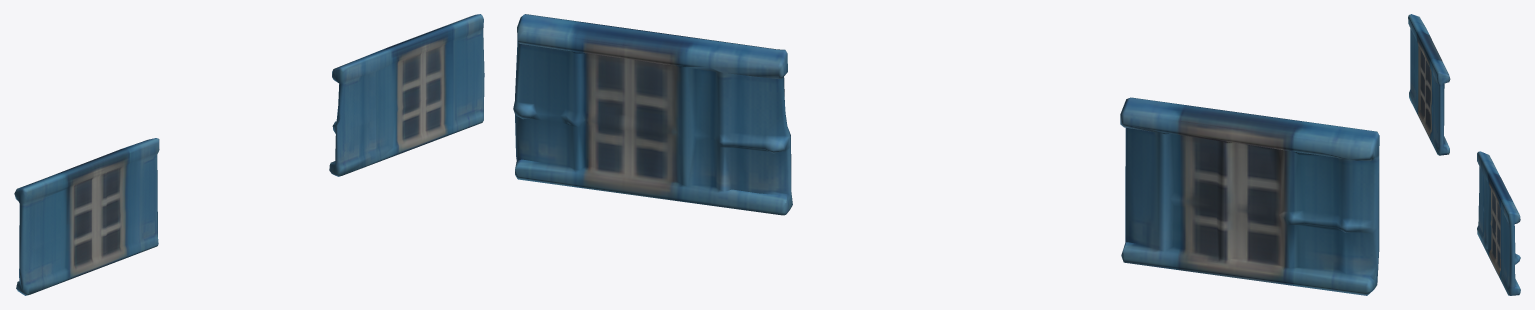
The model's file is windows1.obj.
The picture shows the model from 3 angles, left to right: view 1: azimuth 30°, elevation 25°; view 2: azimuth 150°, elevation 25°; view 3: azimuth 270°, elevation 25°; orthographic projection. The views are drawn at different scales.
Visible parts, largest first — view 1: Windowsgeom1; view 2: Windowsgeom1; view 3: Windowsgeom1.
Part boxes in pixels (left/top/right/bottom): Windowsgeom1: left=14, top=14, right=484, bottom=295; Windowsgeom1: left=513, top=14, right=1379, bottom=295; Windowsgeom1: left=1408, top=14, right=1520, bottom=295.
Size of the model in its own units: 11.37 by 2.23 by 2.7.
Materials: 1 (1 with a texture image).
